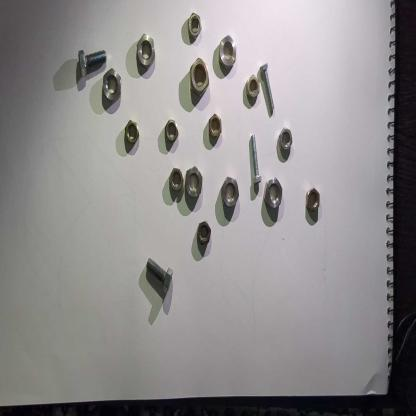Bolts: (140, 249, 176, 300), (75, 47, 113, 80), (257, 62, 277, 117), (247, 129, 262, 197)
NUTS: (101, 66, 125, 109), (218, 172, 241, 216), (189, 56, 211, 98), (262, 177, 283, 219), (216, 35, 239, 72), (136, 30, 156, 72), (184, 161, 206, 198), (303, 185, 323, 222), (244, 72, 263, 108), (185, 10, 205, 42), (169, 161, 184, 203), (197, 219, 216, 250), (124, 116, 141, 150), (276, 127, 294, 158), (207, 112, 224, 140), (165, 118, 180, 146)
